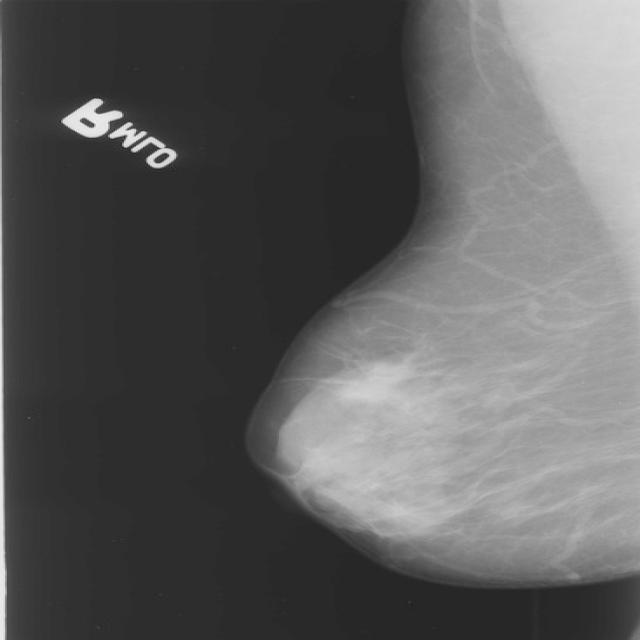tumour: (340, 362, 412, 401)
